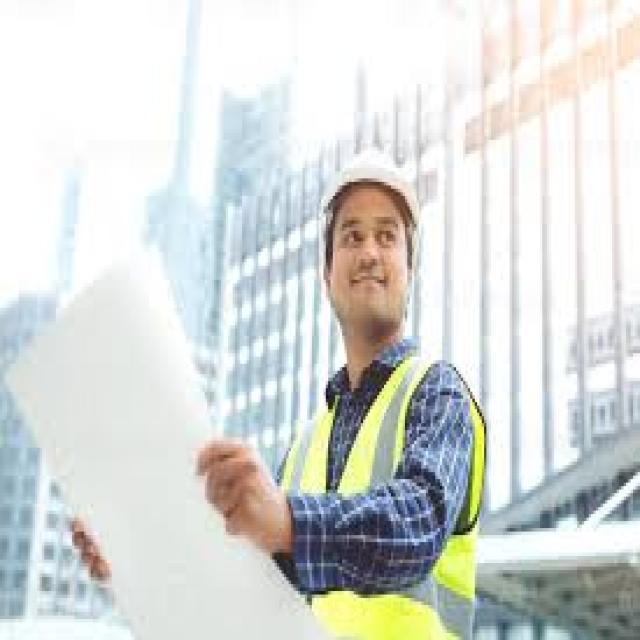Reflective-Jacket: (274, 339, 496, 637)
Safety-Helmet: (310, 129, 435, 245)
